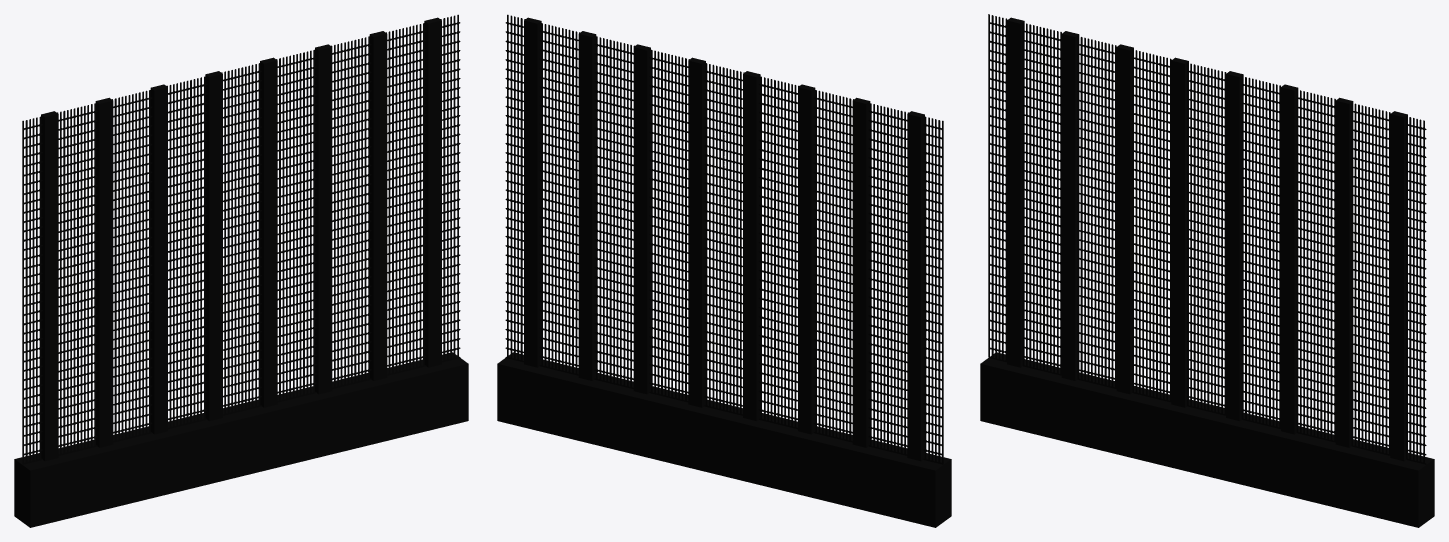
The model's file is nyc_subway_ticketing_area_fence_2.obj.
3 views of the same model, side by side, from view 1: azimuth 30°, elevation 25°; view 2: azimuth 150°, elevation 25°; view 3: azimuth 330°, elevation 25° (orthographic).
Visible parts, largest first — view 1: cube; view 2: cube; view 3: cube.
Part boxes in pixels (left/top/right/bottom): cube: left=14, top=14, right=468, bottom=527; cube: left=497, top=14, right=951, bottom=527; cube: left=980, top=14, right=1434, bottom=527.
Size of the model in its own units: 1 by 0.875 by 0.0625.
1 material, 1 textured.
